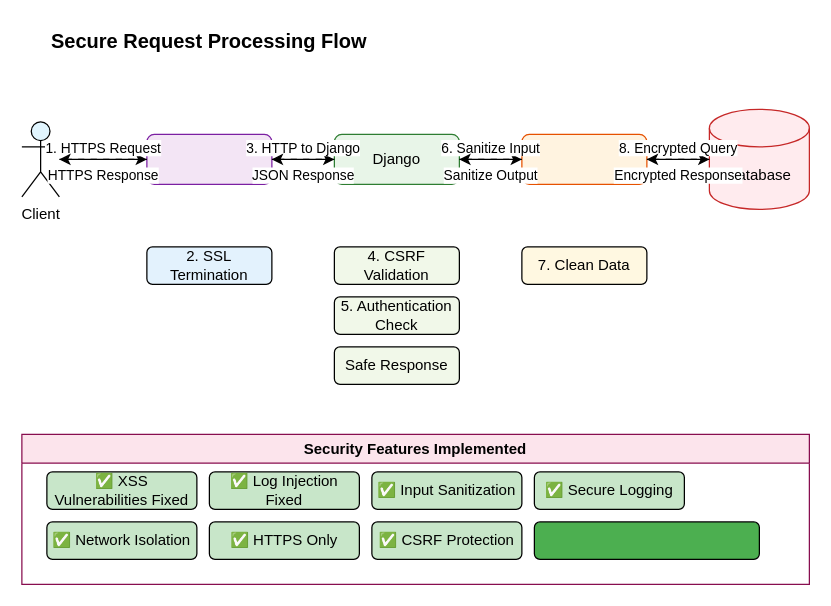
The diagram is 831 pixels wide and 606 high, and some of its shapes have lost their labels. Each missing label, with the centre of its shape:
"Nginx (SSL)" goes at (x=209, y=158).
"Sanitizer" goes at (x=584, y=158).
"✅ Zero Critical Vulnerabilities" goes at (x=646, y=540).
